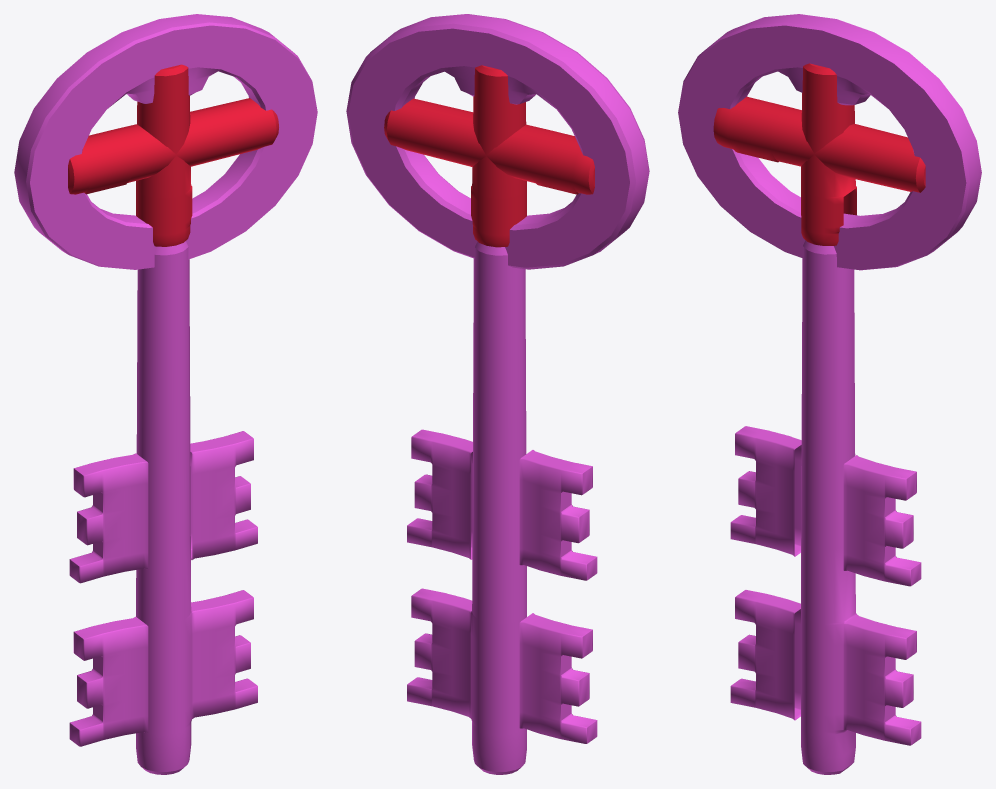
File: Key_medium.fbx
3 views of the same model, side by side, from view 1: azimuth 30°, elevation 25°; view 2: azimuth 150°, elevation 25°; view 3: azimuth 330°, elevation 25° (orthographic).
Visible parts, largest first — view 1: Key_01.006, Key_01.010, Key_01.009; view 2: Key_01.006, Key_01.010, Key_01.009; view 3: Key_01.006, Key_01.010, Key_01.009.
Boxes of the visible parts, <box> form: Key_01.006: <box>14,14,317,774</box>; Key_01.010: <box>68,98,278,194</box>; Key_01.009: <box>136,64,192,246</box>; Key_01.006: <box>346,14,649,774</box>; Key_01.010: <box>384,98,594,194</box>; Key_01.009: <box>471,65,526,247</box>; Key_01.006: <box>678,14,981,774</box>; Key_01.010: <box>713,96,925,192</box>; Key_01.009: <box>801,63,856,245</box>.
Size of the model in its own units: 160 by 389 by 25.96.
